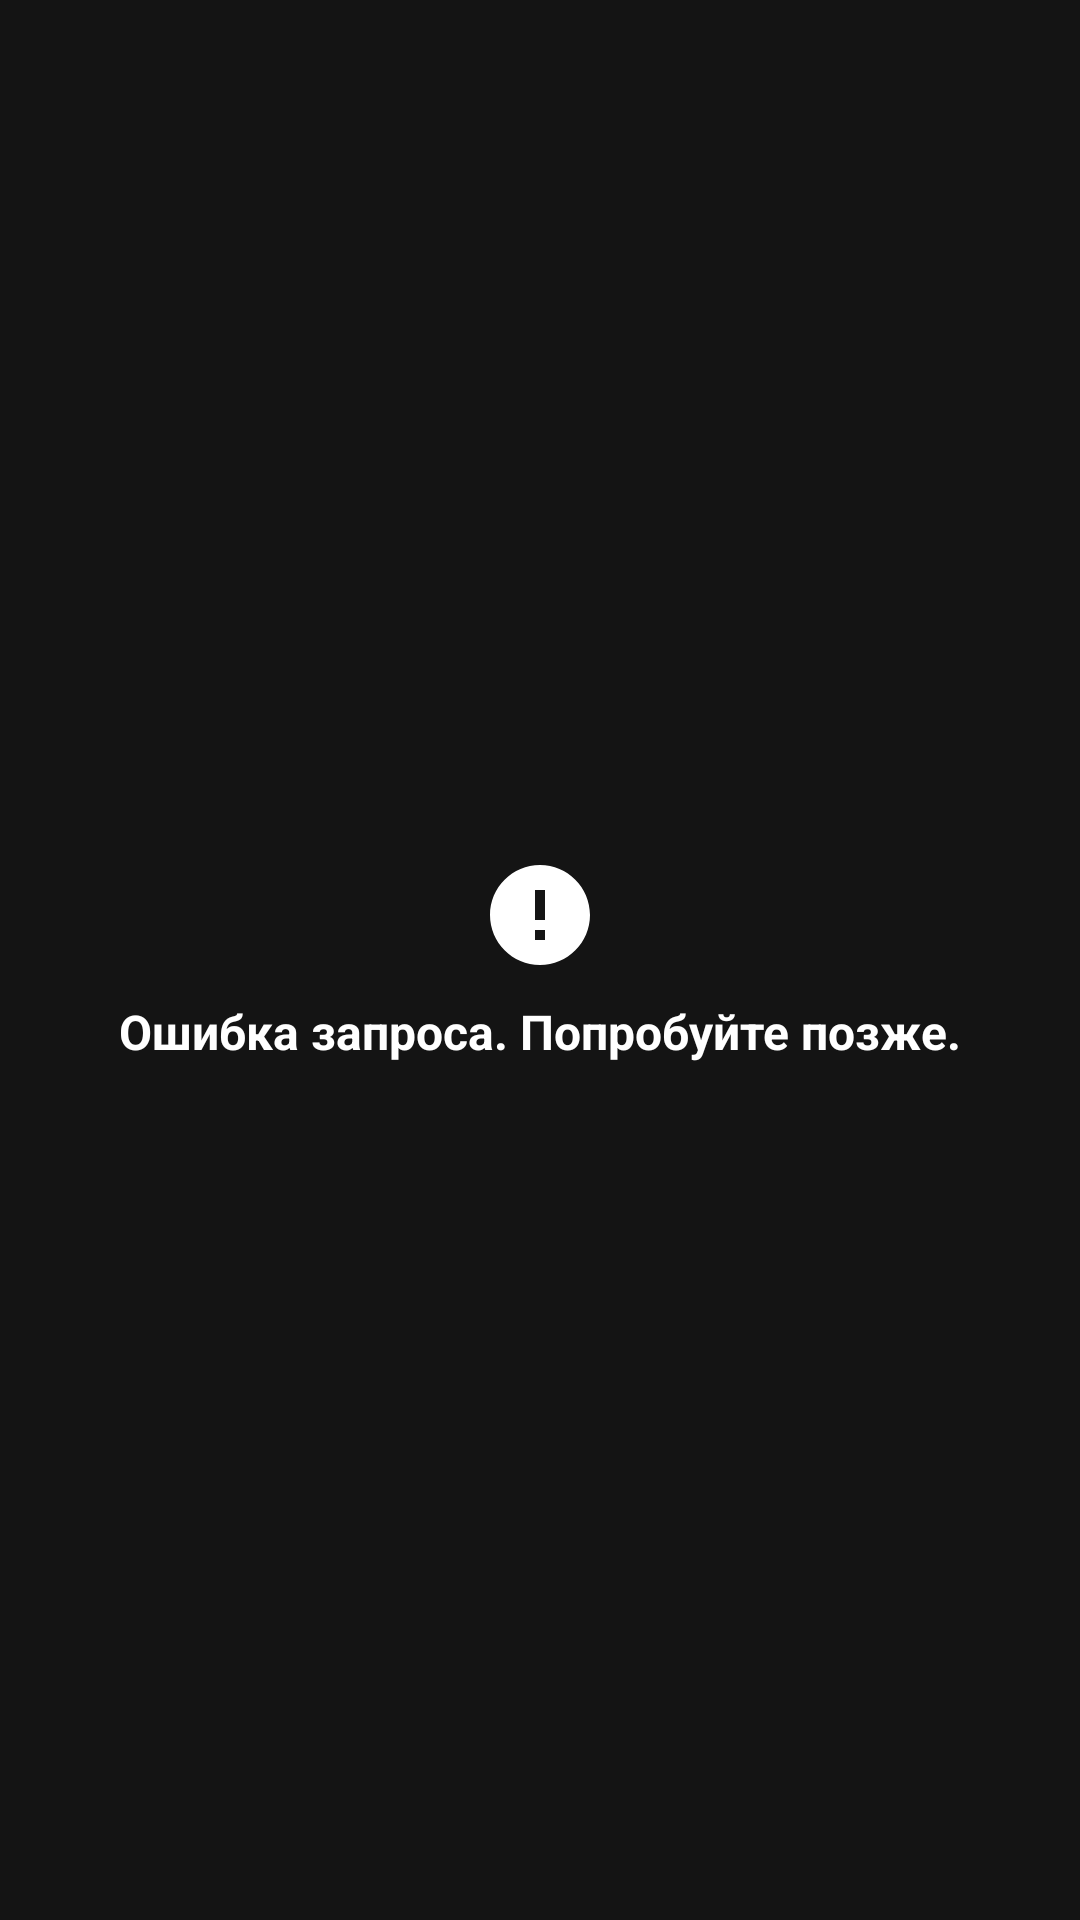

Screen size 1080px×1920px. Icon name, then its box in pixels as (x1, y1, x2, y2):
error: (490, 865, 590, 965)
